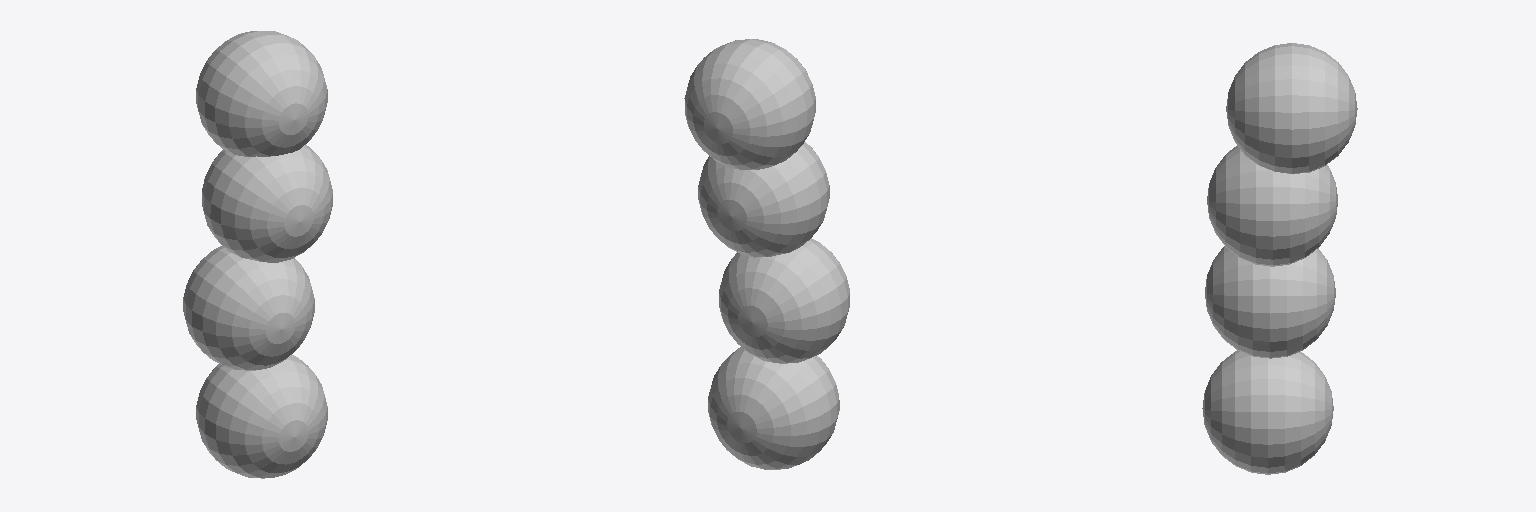
File: fishball x4.obj
3 views of the same model, side by side, from view 1: azimuth 30°, elevation 25°; view 2: azimuth 150°, elevation 25°; view 3: azimuth 270°, elevation 25° (orthographic).
Visible parts, largest first — view 1: Mesh2 red_rubber_ball1 Group1 Model, Mesh6 red_rubber_ball3 Group1 Model, Mesh4 red_rubber_ball2 Group1 Model, Mesh8 red_rubber_ball4 Group1 Model; view 2: Mesh2 red_rubber_ball1 Group1 Model, Mesh6 red_rubber_ball3 Group1 Model, Mesh4 red_rubber_ball2 Group1 Model, Mesh8 red_rubber_ball4 Group1 Model; view 3: Mesh2 red_rubber_ball1 Group1 Model, Mesh4 red_rubber_ball2 Group1 Model, Mesh8 red_rubber_ball4 Group1 Model, Mesh6 red_rubber_ball3 Group1 Model.
Boxes of the visible parts, box(x1,y1,x2,y2) form: Mesh2 red_rubber_ball1 Group1 Model: box(196, 31, 327, 156); Mesh6 red_rubber_ball3 Group1 Model: box(183, 246, 314, 370); Mesh4 red_rubber_ball2 Group1 Model: box(196, 355, 327, 478); Mesh8 red_rubber_ball4 Group1 Model: box(202, 145, 332, 262); Mesh2 red_rubber_ball1 Group1 Model: box(684, 39, 815, 169); Mesh6 red_rubber_ball3 Group1 Model: box(719, 238, 849, 363); Mesh4 red_rubber_ball2 Group1 Model: box(708, 347, 839, 469); Mesh8 red_rubber_ball4 Group1 Model: box(698, 142, 829, 257); Mesh2 red_rubber_ball1 Group1 Model: box(1226, 43, 1357, 173); Mesh4 red_rubber_ball2 Group1 Model: box(1202, 350, 1333, 474); Mesh8 red_rubber_ball4 Group1 Model: box(1207, 146, 1337, 266); Mesh6 red_rubber_ball3 Group1 Model: box(1205, 246, 1335, 358).
Size of the model in its own units: 0.0483 by 0.1423 by 0.0471.